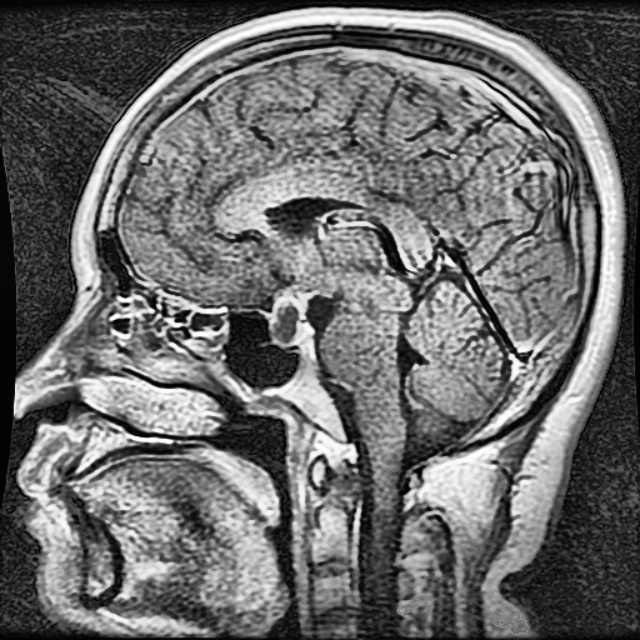Pituitary: (268, 293, 312, 347)
